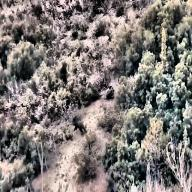boar: (72, 110, 90, 144)
